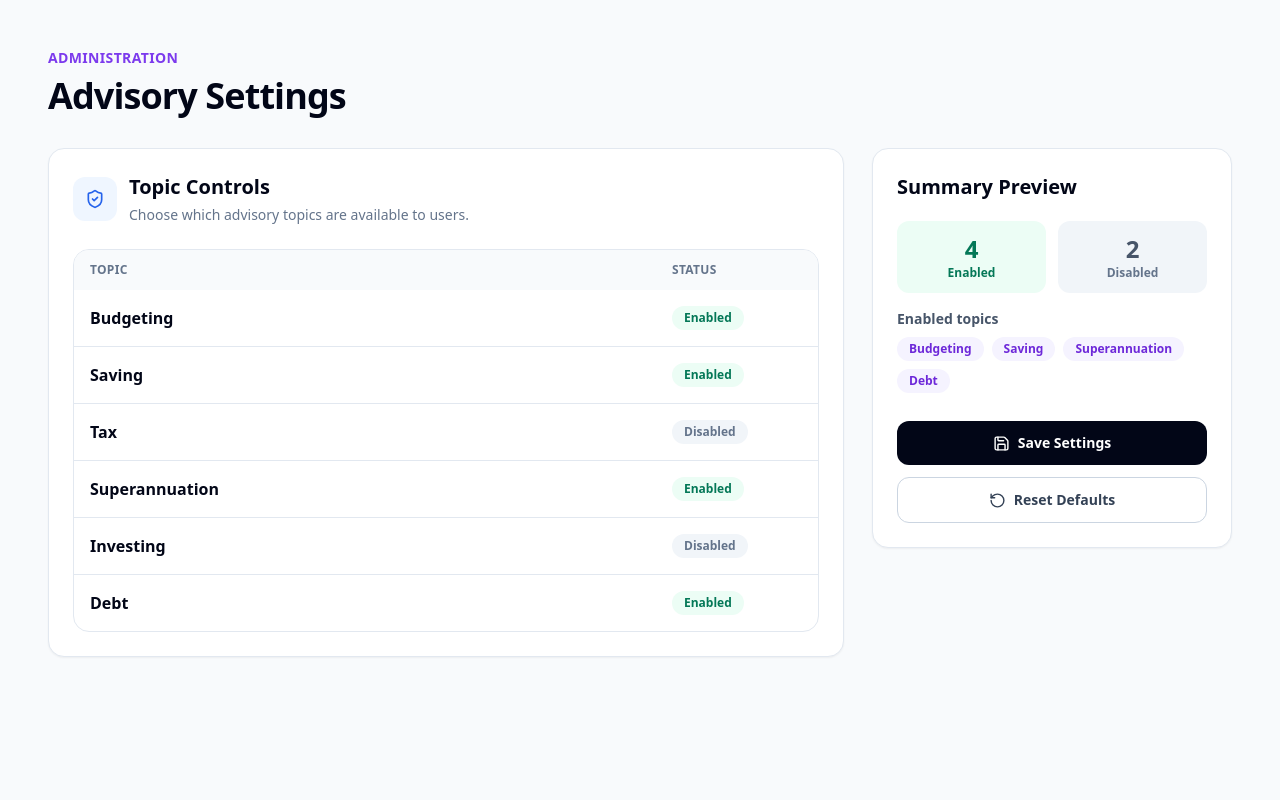
Test: toggles a topic and saves the changed settings
This screenshot has width=1280, height=800.
Expected: the text "Topic Controls" is shown, [129,173,270,200]
Expected: the text "Tax" is shown, [90,421,117,443]
Click the button "Disabled" in the row of "Tax". click: (710, 432)
box: [672,420,748,444]
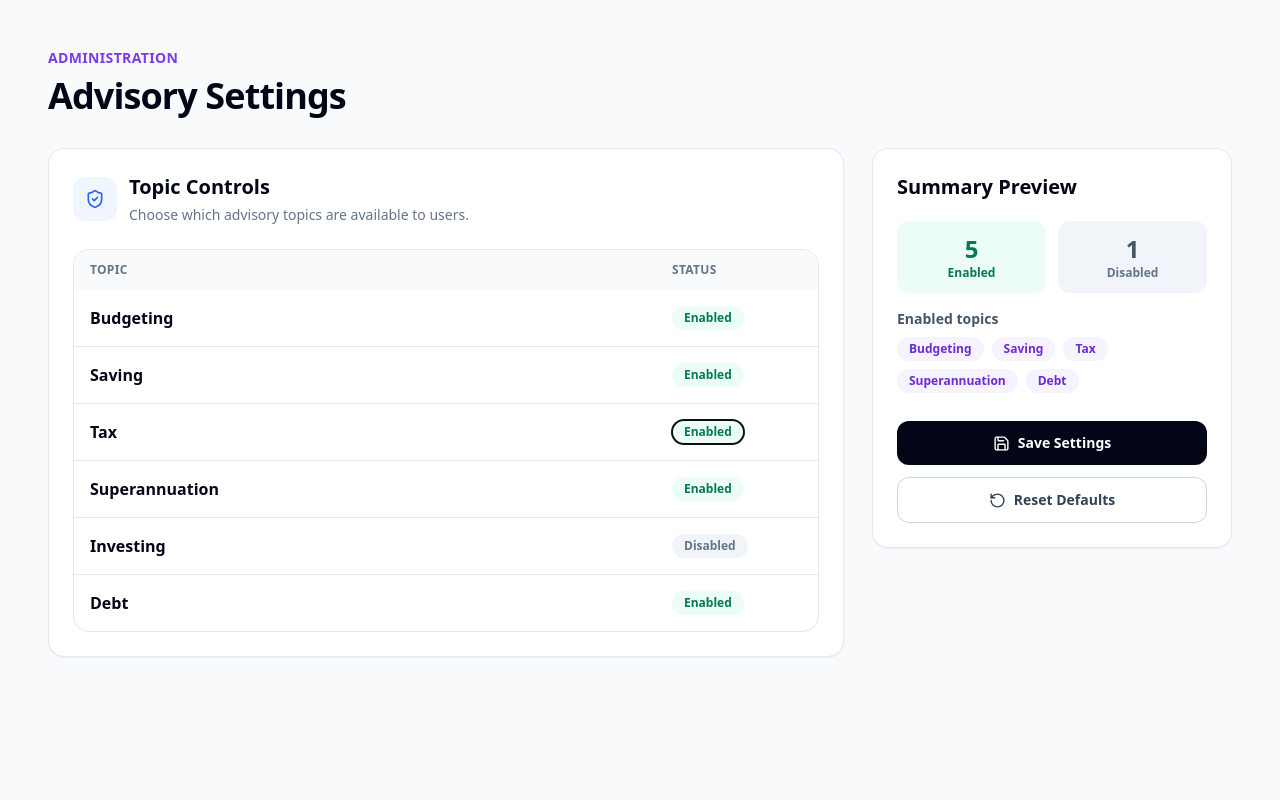
Click the button "Save Settings". click: (1052, 443)
box: [897,421,1207,465]
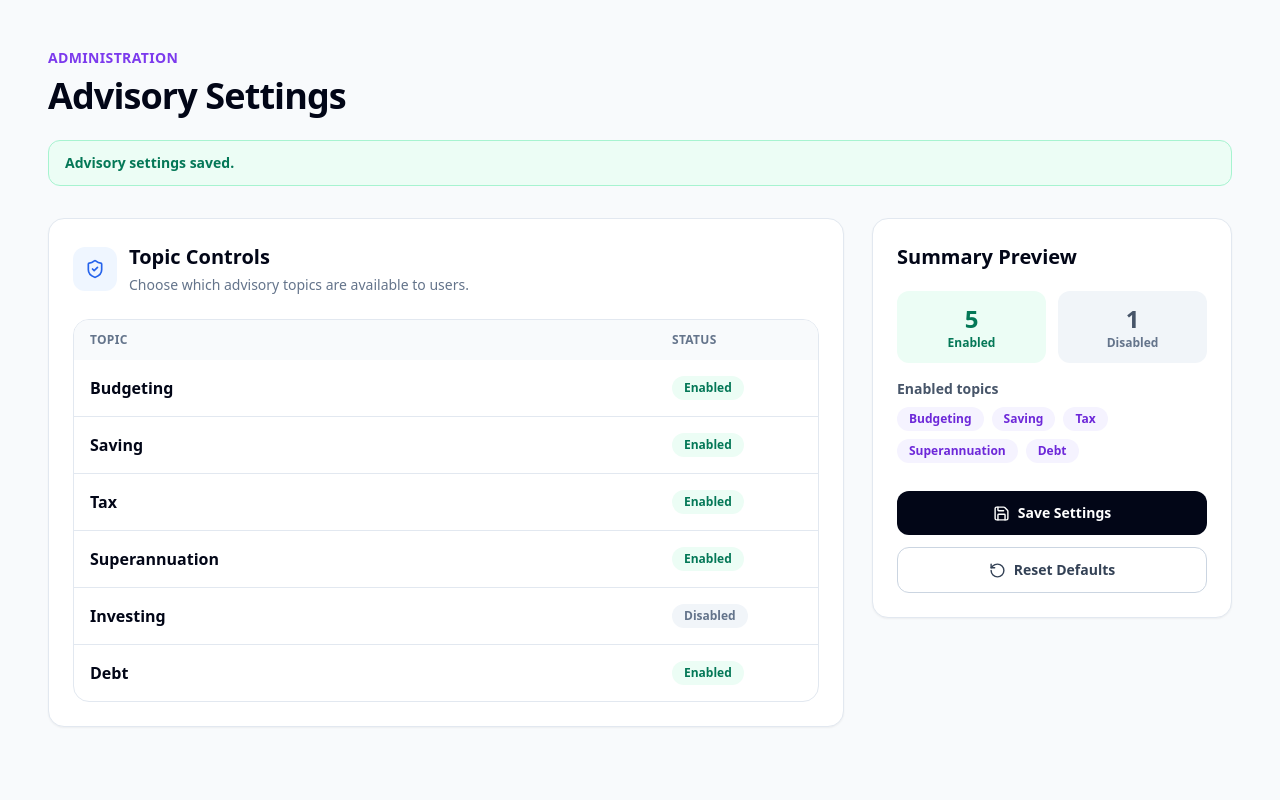
Expected: the message reads "Advisory settings saved.", [65,153,234,172]
